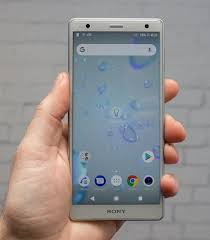sony: (67, 13, 166, 222)
